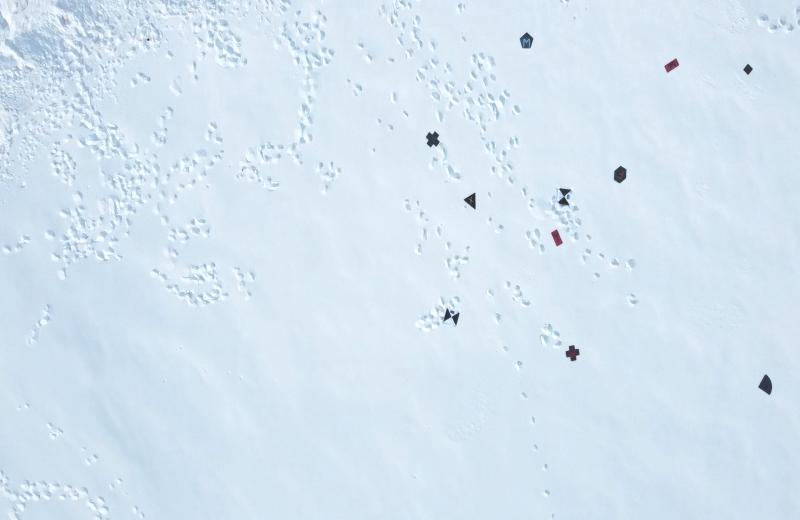Cross: (564, 344, 580, 363), (424, 130, 440, 148)
Hexagon: (612, 165, 628, 184)
Pentagon: (518, 31, 536, 51)
Quarter Circle: (758, 373, 776, 396)
Rectangle: (550, 229, 564, 248), (663, 56, 679, 71)
Square: (743, 62, 753, 75)
Triangle: (463, 191, 479, 212)
